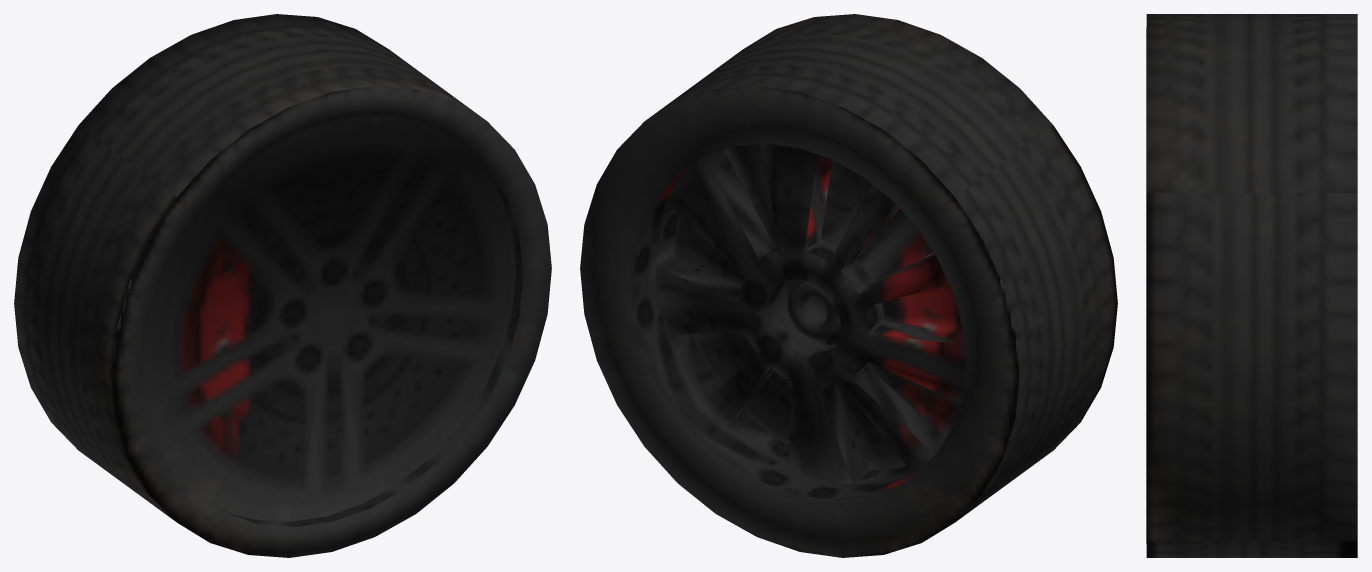
File: roue.obj
The picture shows the model from 3 angles, left to right: view 1: azimuth 30°, elevation 25°; view 2: azimuth 150°, elevation 25°; view 3: azimuth 270°, elevation 25°; orthographic projection. The views are drawn at different scales.
Parts seen in each view (by area): view 1: roue_Cylinder; view 2: roue_Cylinder; view 3: roue_Cylinder.
Boxes of the visible parts, <box> form: roue_Cylinder: <box>14,14,551,557</box>; roue_Cylinder: <box>580,14,1117,557</box>; roue_Cylinder: <box>1146,14,1357,557</box>.
Size of the model in its own units: 14.18 by 14.18 by 5.51.
Materials: 1 (1 with a texture image).
